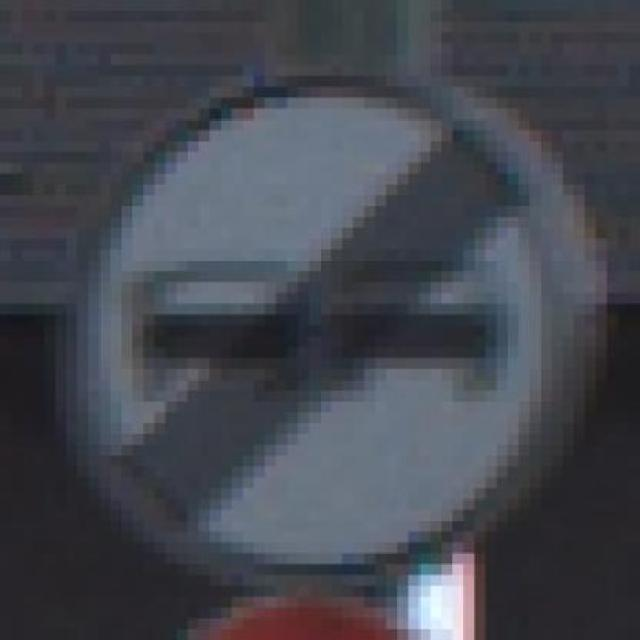No_Over_Taking: (45, 22, 629, 586)
